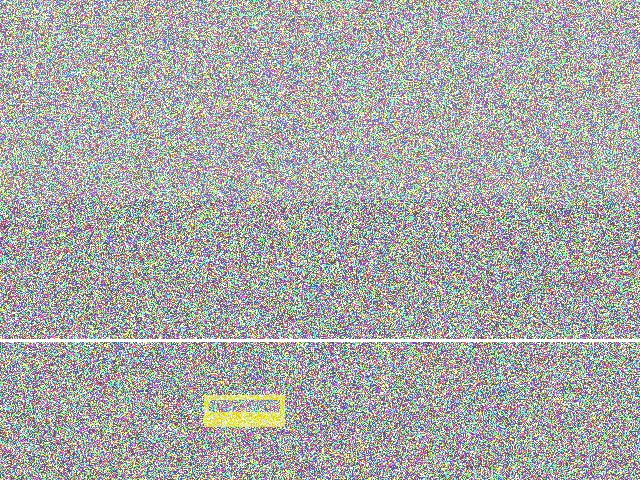bus: (229, 347, 315, 480)
car: (421, 181, 499, 252)
